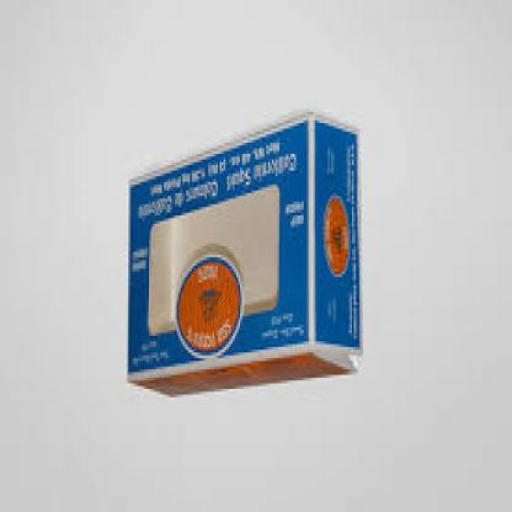cardboard: (131, 114, 363, 400)
